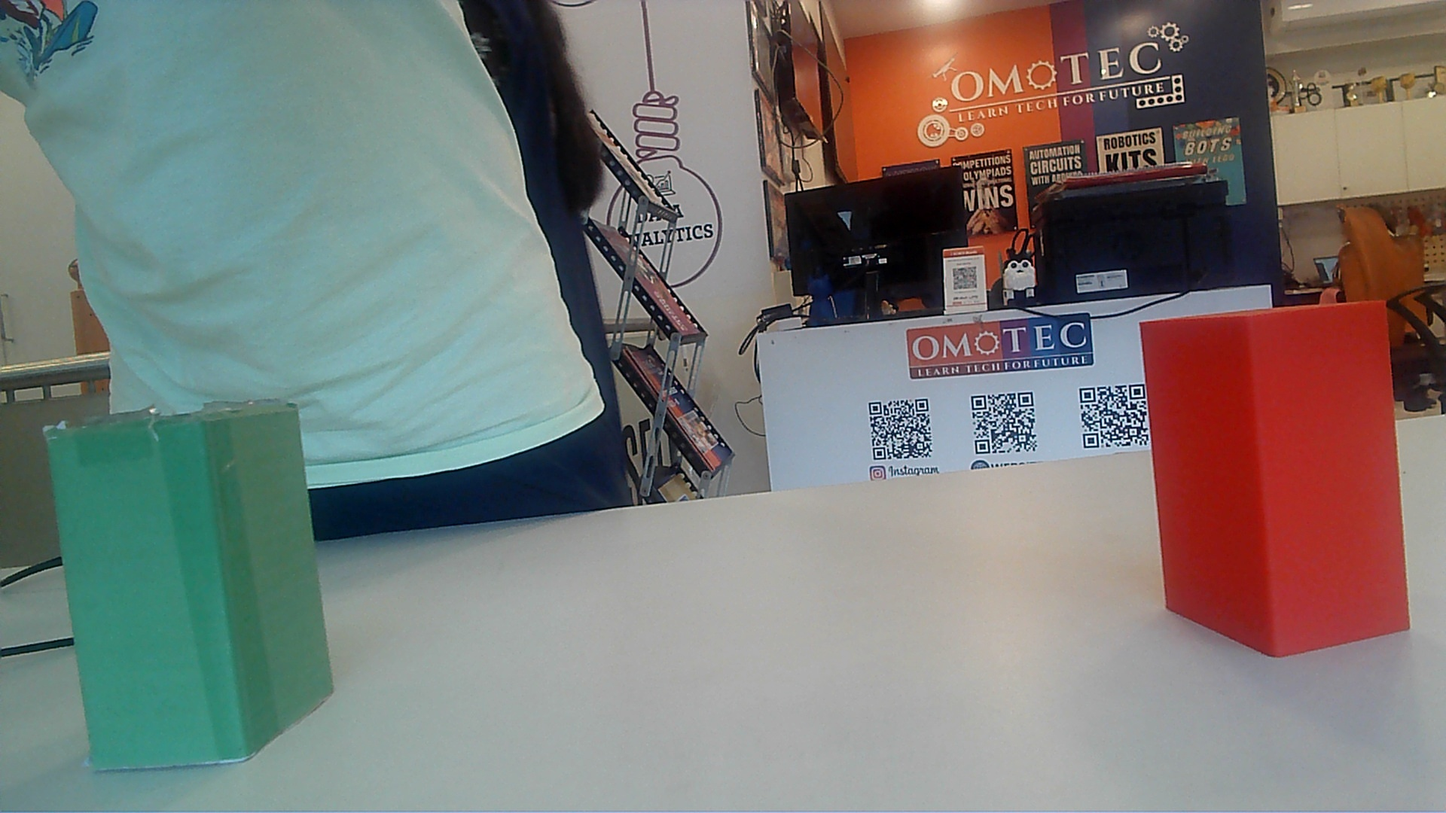green: (46, 379, 331, 780)
